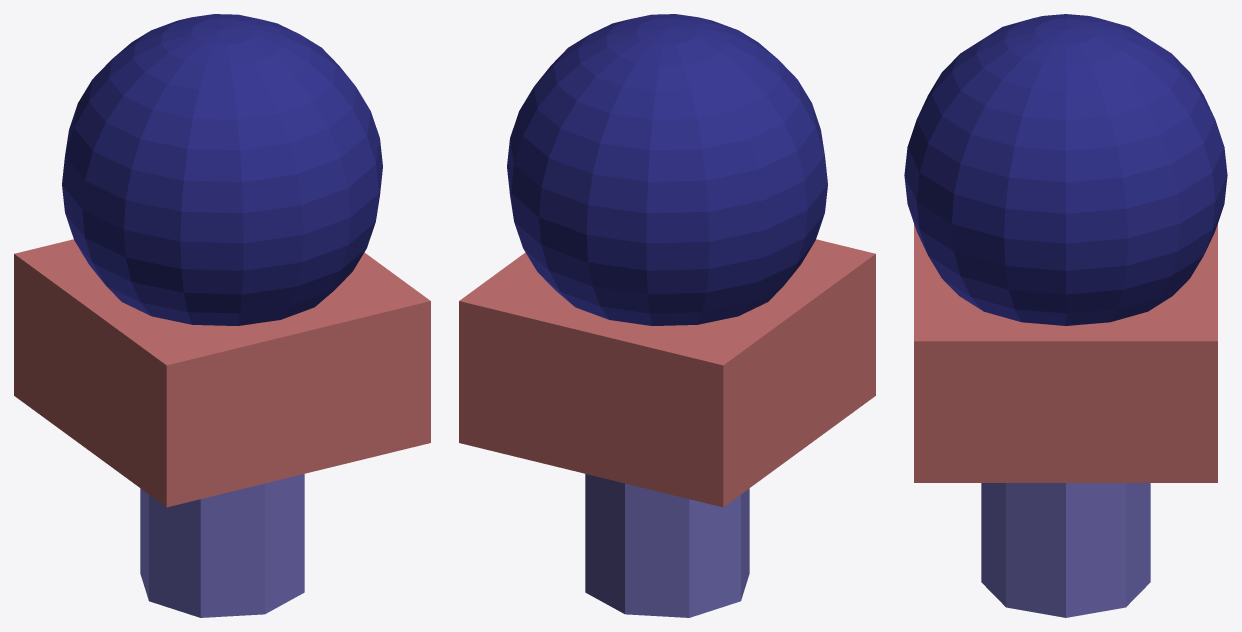
Rendered from microphone.fbx.
3 views of the same model, side by side, from view 1: azimuth 30°, elevation 25°; view 2: azimuth 150°, elevation 25°; view 3: azimuth 270°, elevation 25° (orthographic).
Visible parts, largest first — view 1: mic_top; view 2: mic_top; view 3: mic_top.
Part boxes in pixels (bbox=[...]): mic_top: bbox=[14, 14, 430, 617]; mic_top: bbox=[459, 14, 875, 617]; mic_top: bbox=[904, 14, 1227, 617].
Bounding box in the file's own units: 116 × 219 × 116.
